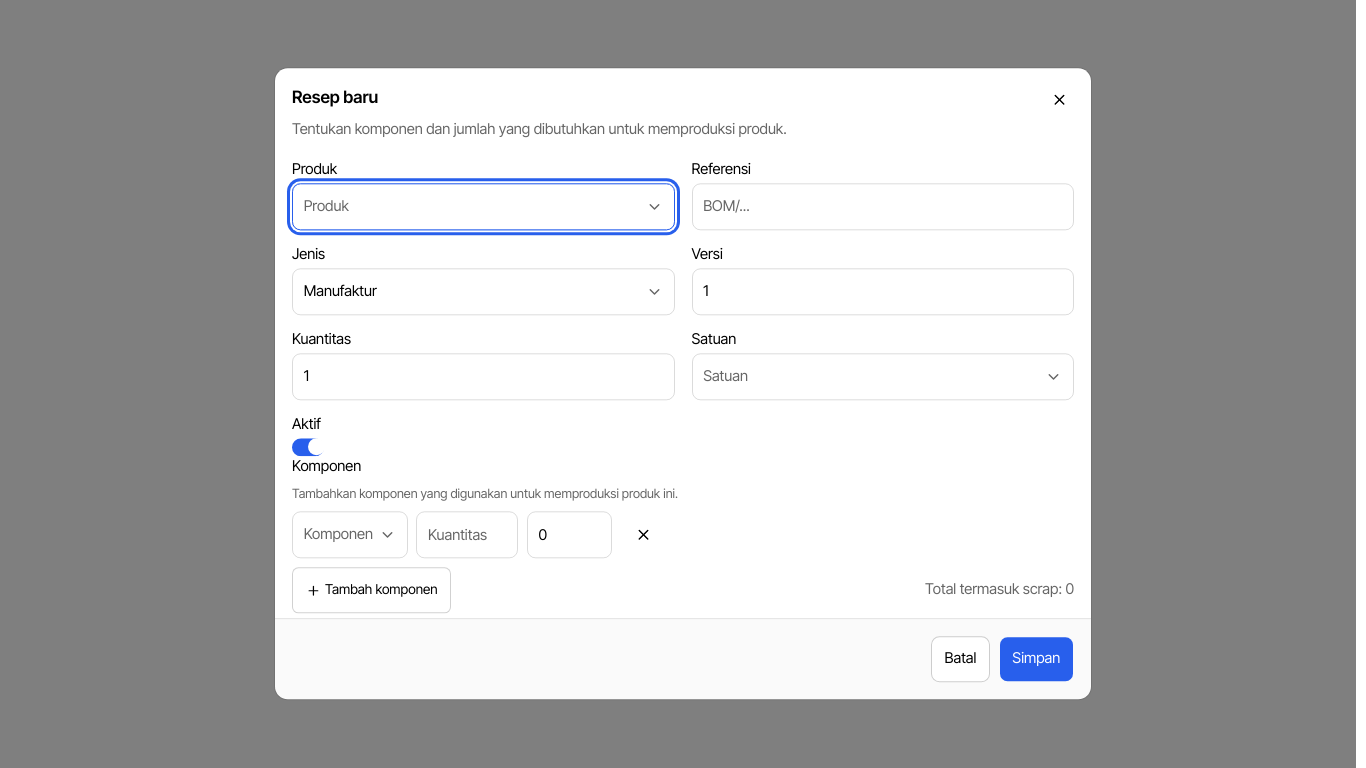
Test: BomFormDialog branches › blocks submit when item and component are missing
expect the heading "Resep baru" is shown: met, box [292,85,378,111]
Click the button "Simpan" at [1036, 659], box [999,636,1074,683]
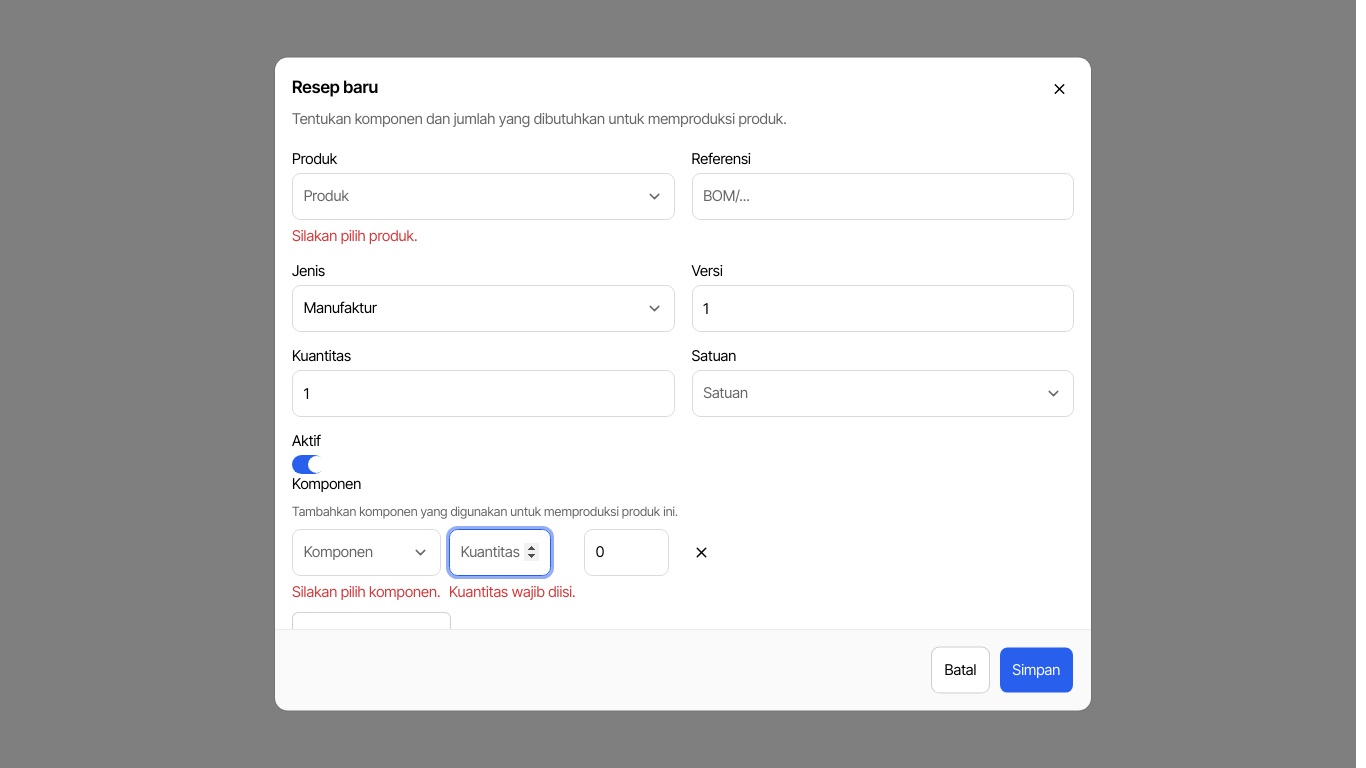
expect the text "Silakan pilih produk." is shown: met, box [292,226,417,244]
expect the text "Silakan pilih komponen." is shown: met, box [292,582,441,603]
